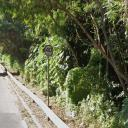speed_limit_40: (44, 44, 53, 56)
